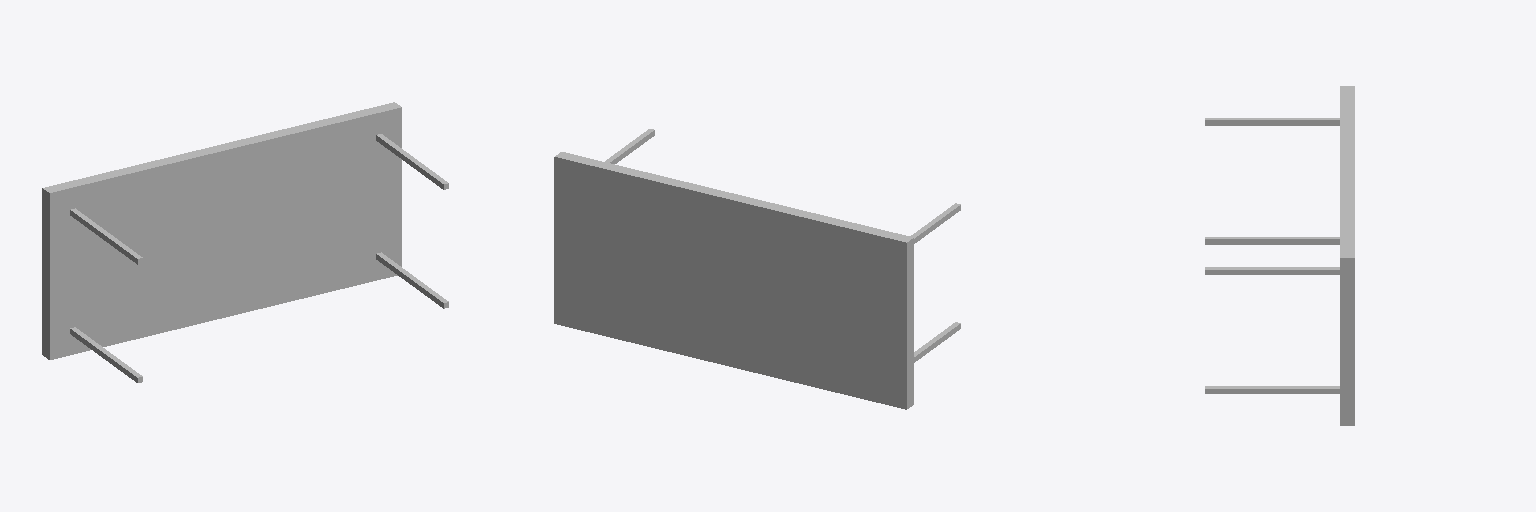
The model's file is random_table1.obj.
3 views of the same model, side by side, from view 1: azimuth 30°, elevation 25°; view 2: azimuth 150°, elevation 25°; view 3: azimuth 270°, elevation 25° (orthographic).
Parts seen in each view (by area): view 1: Table_Cube.200, TableLeg2_Cube.203, TableLeg0_Cube.201, TableLeg1_Cube.202, TableLeg3_Cube.204; view 2: Table_Cube.200; view 3: Table_Cube.200, TableLeg0_Cube.201, TableLeg1_Cube.202, TableLeg2_Cube.203, TableLeg3_Cube.204.
Part boxes in pixels (bbox=[...]): Table_Cube.200: bbox=[42, 102, 401, 359]; TableLeg2_Cube.203: bbox=[376, 252, 448, 308]; TableLeg0_Cube.201: bbox=[376, 134, 448, 189]; TableLeg1_Cube.202: bbox=[70, 208, 142, 264]; TableLeg3_Cube.204: bbox=[70, 327, 142, 382]; Table_Cube.200: bbox=[554, 152, 913, 409]; Table_Cube.200: bbox=[1340, 86, 1354, 425]; TableLeg0_Cube.201: bbox=[1205, 267, 1339, 274]; TableLeg1_Cube.202: bbox=[1205, 118, 1339, 125]; TableLeg2_Cube.203: bbox=[1205, 386, 1339, 393]; TableLeg3_Cube.204: bbox=[1205, 237, 1339, 244].
Bounding box in the file's own units: 12.92 × 5.86 × 4.74.